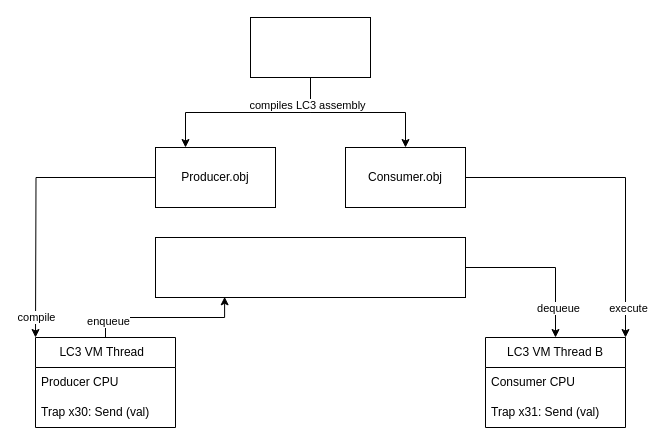
The diagram is 665 pixels wide and 445 high, and some of its shapes have lost their labels. The shapes that lost their labels are listed below. From the top down, each one's centre as x and y in pixels, then its label:
At [310,47]: "Assembler (Python)".
At [310,267]: "Lock-Free Ring Buffer Bus (Zero-Allocation SPSC)".
